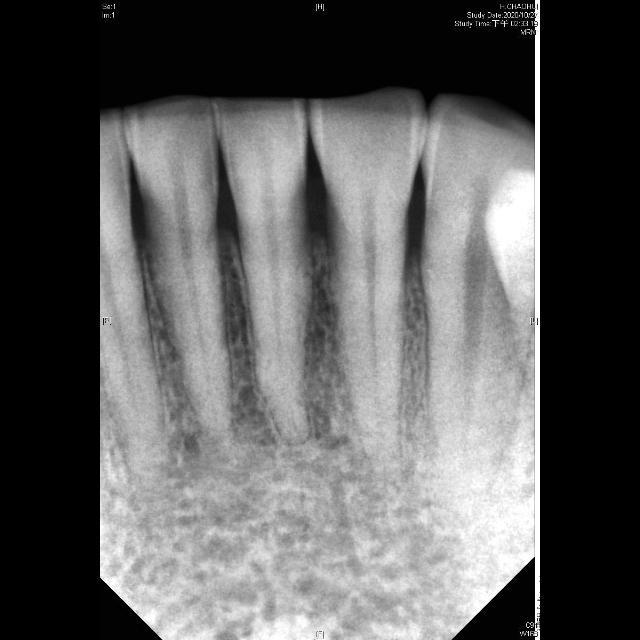teeth: (309, 89, 426, 463), (126, 99, 230, 439), (216, 99, 309, 442)
